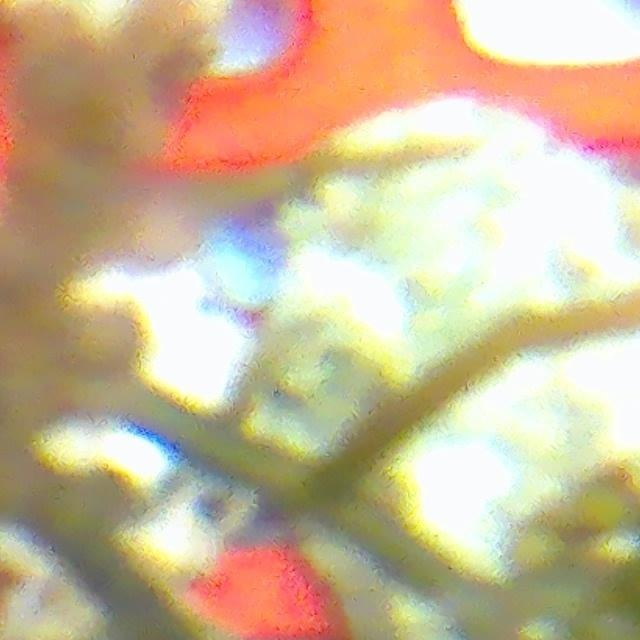SeaGrape: (506, 519, 569, 580), (574, 477, 631, 535)
